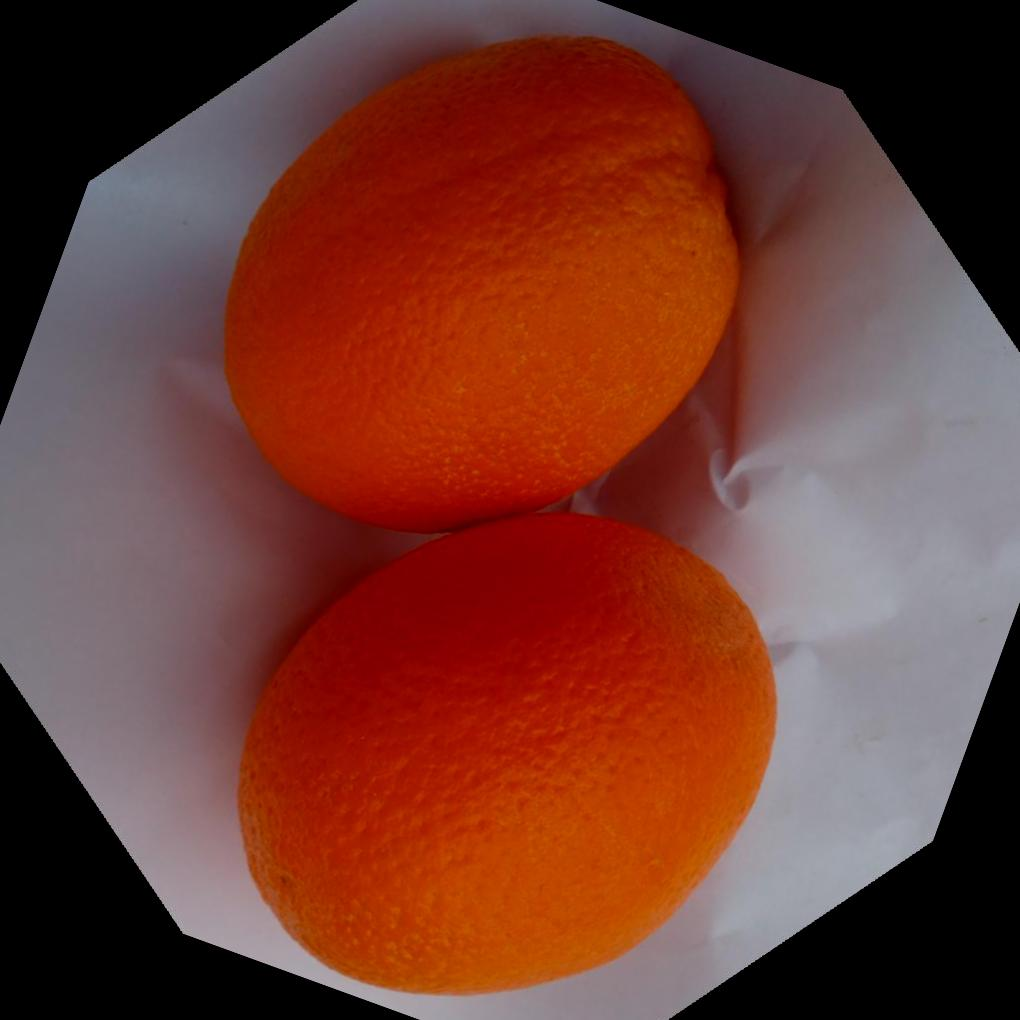FreshGuava: (222, 29, 780, 994)
